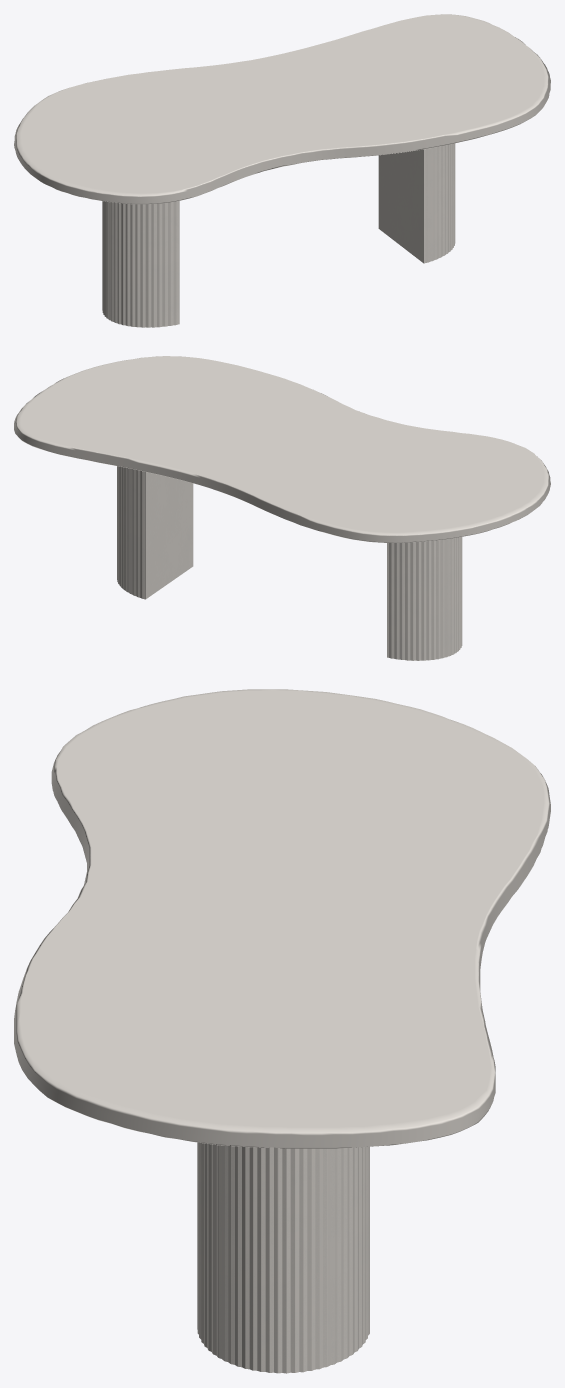
The model's file is pearlwhite_wave_round_flute.glb.
3 views of the same model, one above another, from view 1: azimuth 30°, elevation 25°; view 2: azimuth 150°, elevation 25°; view 3: azimuth 270°, elevation 25° (orthographic). The views are drawn at different scales.
Parts seen in each view (by area): view 1: round_wave, flute; view 2: round_wave, flute; view 3: round_wave, flute.
Part boxes in pixels (x1,y1,x2,y2): round_wave: (14, 14, 550, 204); flute: (102, 143, 455, 327); round_wave: (14, 356, 550, 542); flute: (117, 466, 462, 660); round_wave: (14, 689, 550, 1148); flute: (197, 1142, 369, 1373).
Size of the model in its own units: 7.7 by 2.5 by 3.89.
Materials: 1 (1 with a texture image).
